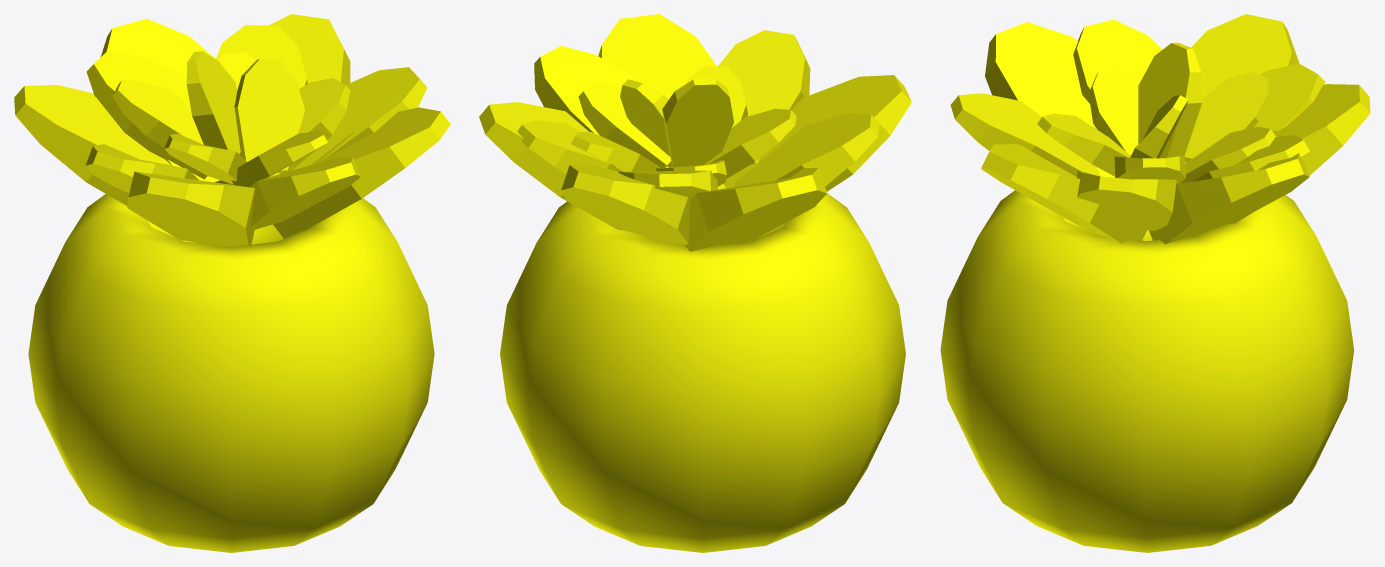
3 renders of one model, left to right at view 1: azimuth 30°, elevation 25°; view 2: azimuth 150°, elevation 25°; view 3: azimuth 270°, elevation 25°, orthographic.
Visible parts, largest first — view 1: Plant_01; view 2: Plant_01; view 3: Plant_01.
Part boxes in pixels (x1,y1,x2,y2): Plant_01: (14, 14, 450, 552); Plant_01: (479, 14, 911, 552); Plant_01: (940, 14, 1370, 552).
Bounding box in the file's own units: 0.00602 × 0.00712 × 0.00624.
1 material, 1 textured.
